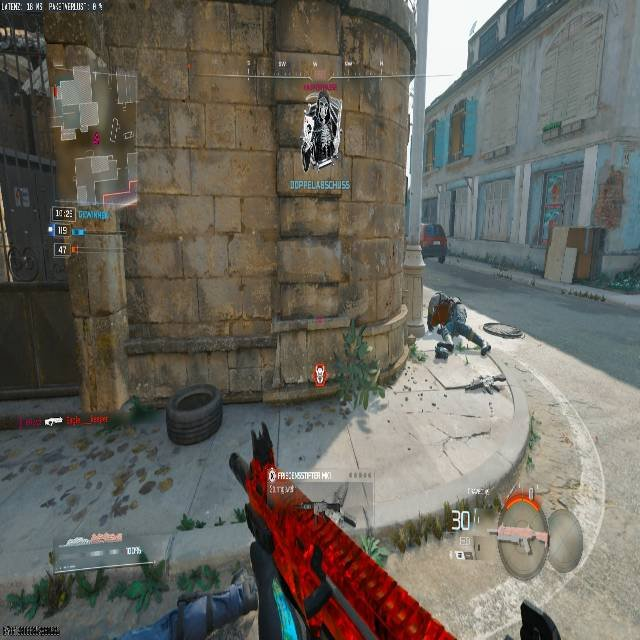player: (300, 91, 340, 169), (422, 221, 447, 269)
